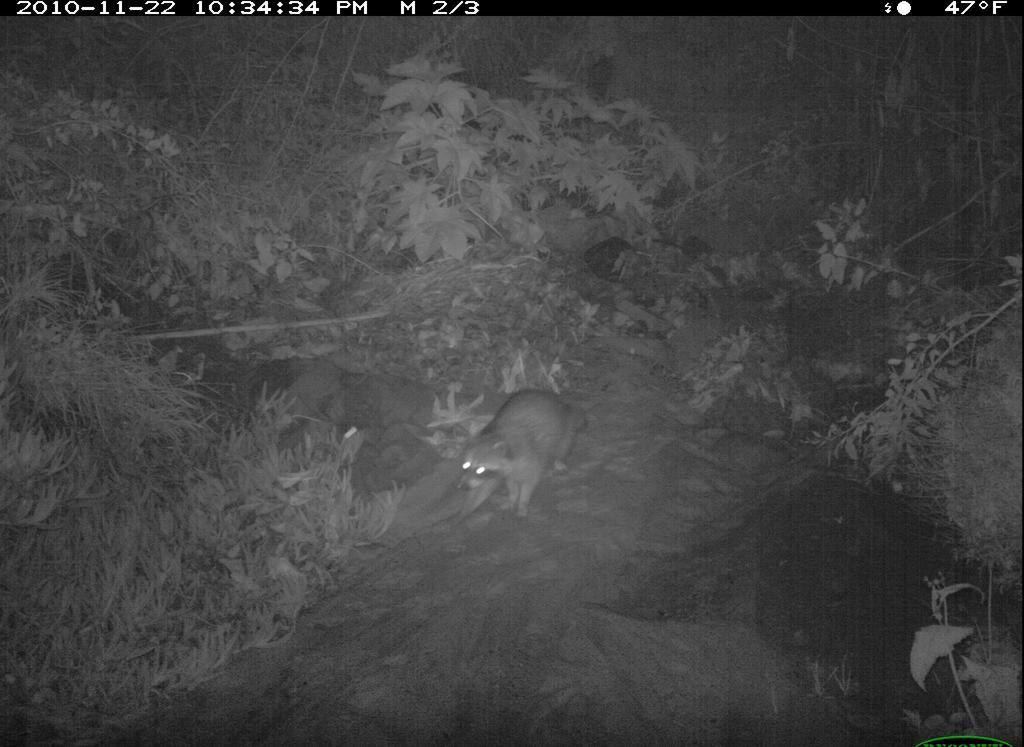raccoon: (449, 379, 611, 538)
